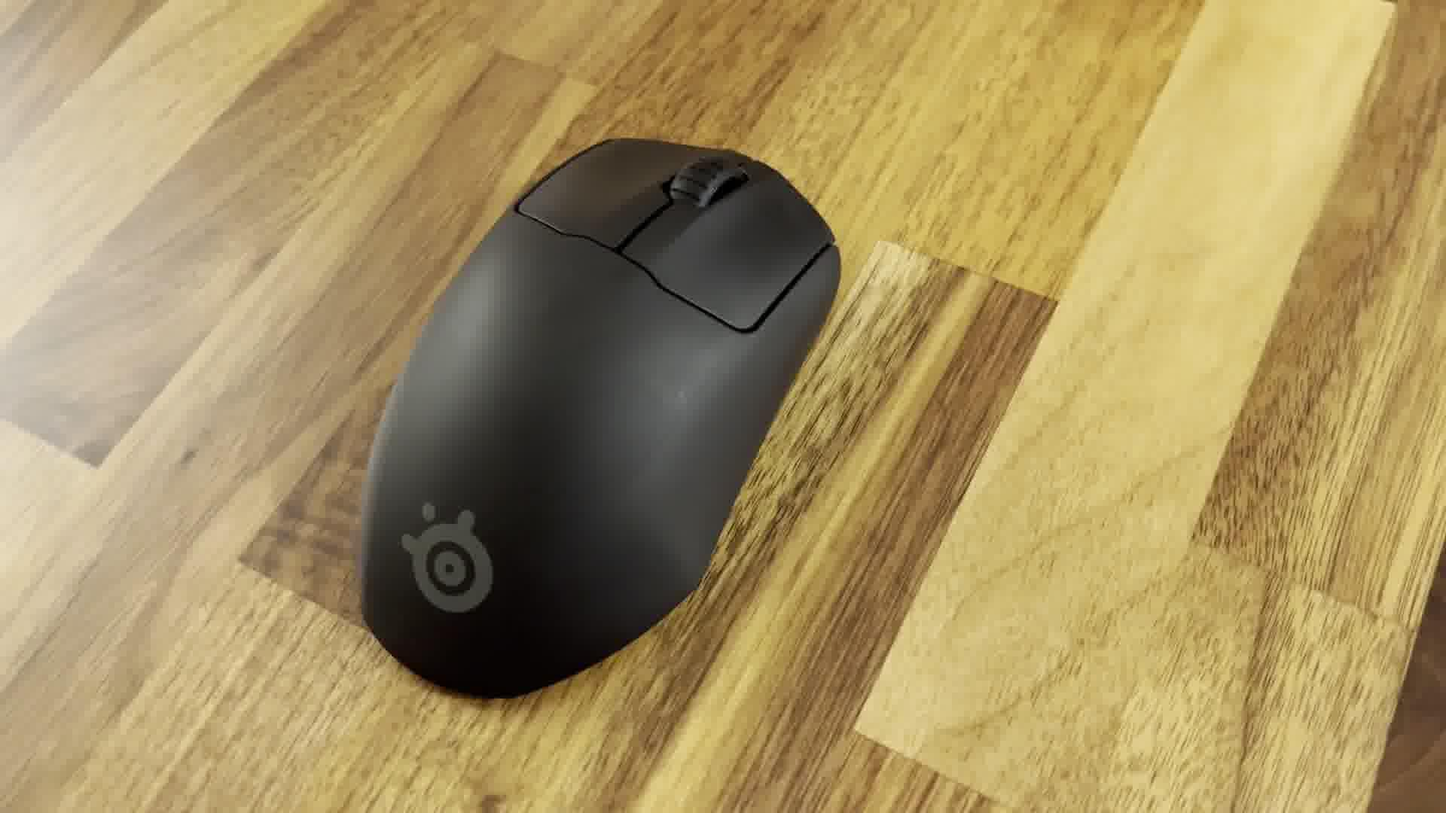steel-series: (355, 126, 844, 703)
